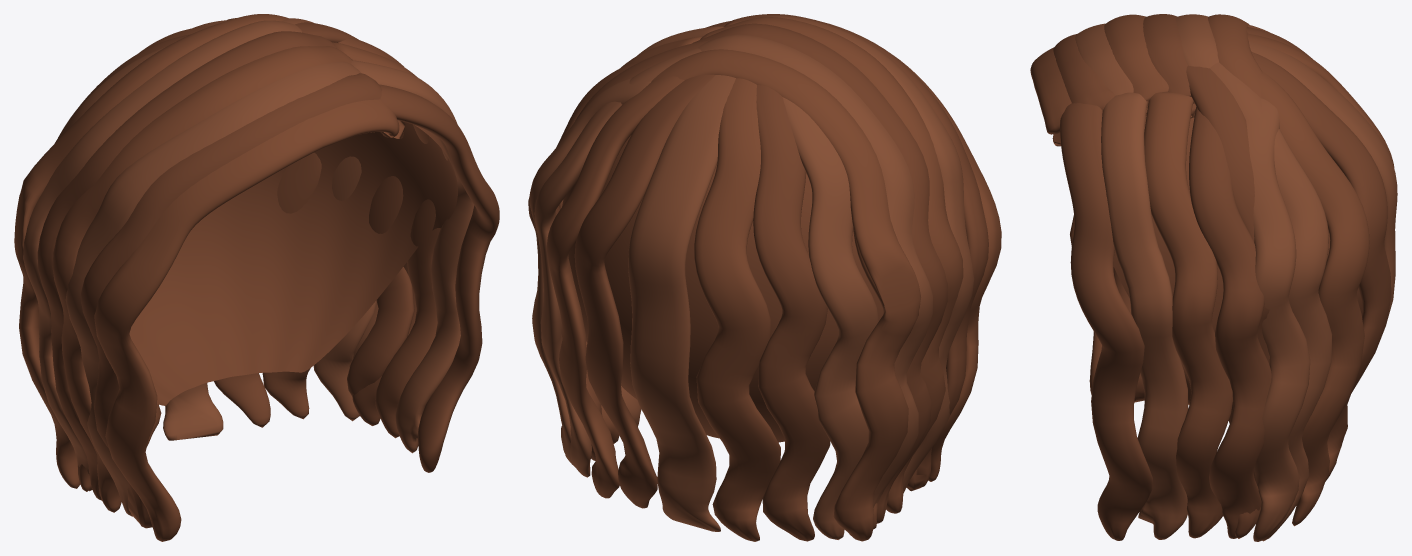
File: Feminine-Feminine-curls-pashmina261-hair-c2b8fad2.glb
3 views of the same model, side by side, from view 1: azimuth 30°, elevation 25°; view 2: azimuth 150°, elevation 25°; view 3: azimuth 270°, elevation 25° (orthographic).
Parts seen in each view (by area): view 1: 226 hair / Hair / sculpted 0.001, 226 hair / Hair / sculpted 1.001, 226 hair / Hair / sculpted 1.002, 226 hair / Hair / sculpted 2.001; view 2: 226 hair / Hair / sculpted 0.001, 226 hair / Hair / sculpted 2.001, 226 hair / Hair / sculpted 1.002, 226 hair / Hair / sculpted 1.001; view 3: 226 hair / Hair / sculpted 1.002, 226 hair / Hair / sculpted 2.001, 226 hair / Hair / sculpted 0.001, 226 hair / Hair / sculpted 1.001.
Boxes of the visible parts, x1,y1,x2,y2 form: 226 hair / Hair / sculpted 0.001: (14,14,440,541); 226 hair / Hair / sculpted 1.001: (129,122,457,405); 226 hair / Hair / sculpted 1.002: (37,18,499,528); 226 hair / Hair / sculpted 2.001: (23,18,474,516); 226 hair / Hair / sculpted 0.001: (546,17,1001,541); 226 hair / Hair / sculpted 2.001: (529,15,974,539); 226 hair / Hair / sculpted 1.002: (528,14,988,541); 226 hair / Hair / sculpted 1.001: (562,135,883,442); 226 hair / Hair / sculpted 1.002: (1053,14,1391,540); 226 hair / Hair / sculpted 2.001: (1075,14,1397,541); 226 hair / Hair / sculpted 0.001: (1030,14,1394,538); 226 hair / Hair / sculpted 1.001: (1113,116,1362,423).
Size of the model in its own units: 1.09 by 1.17 by 0.8699.
